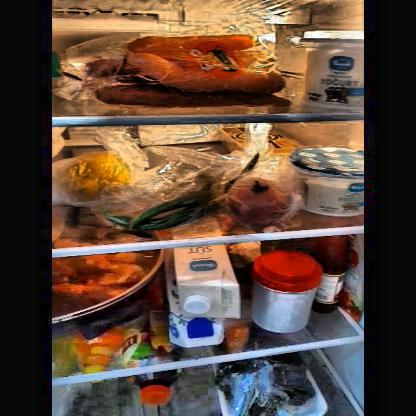broccoli: (217, 360, 326, 415)
carrot: (92, 36, 290, 108)
cheese: (222, 128, 300, 166)
green_chillies: (120, 184, 221, 233)
lemon: (61, 153, 129, 201)
milk: (169, 246, 239, 346)
tomato: (232, 177, 290, 223)
yoghurt: (291, 148, 364, 217), (298, 40, 362, 110)
